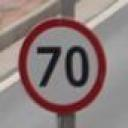speed_limit_70: (18, 17, 107, 114)
